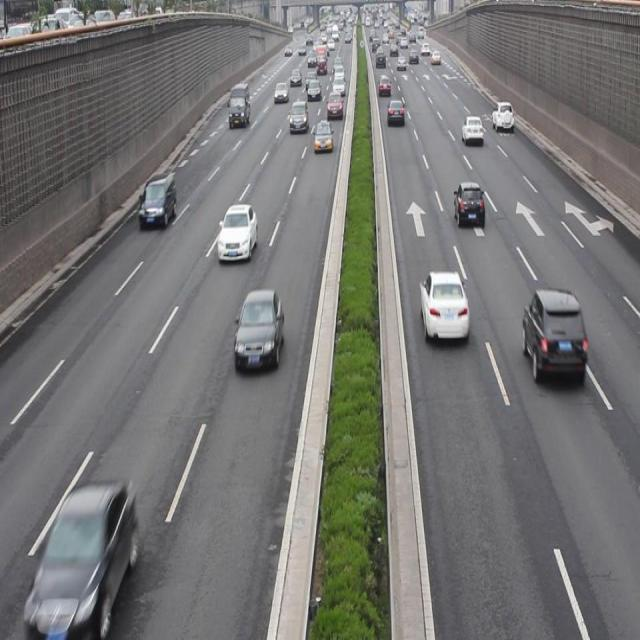car: (32, 478, 137, 629), (521, 287, 586, 386), (233, 288, 283, 370), (417, 268, 469, 341), (216, 204, 258, 259), (138, 172, 177, 227), (452, 179, 484, 229), (460, 114, 483, 146), (490, 99, 513, 130), (312, 120, 333, 152), (386, 97, 404, 127)
truck: (289, 99, 309, 134)
